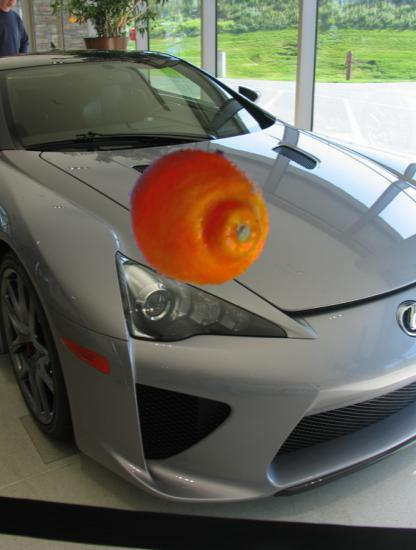Tangelo: (125, 142, 272, 289)
